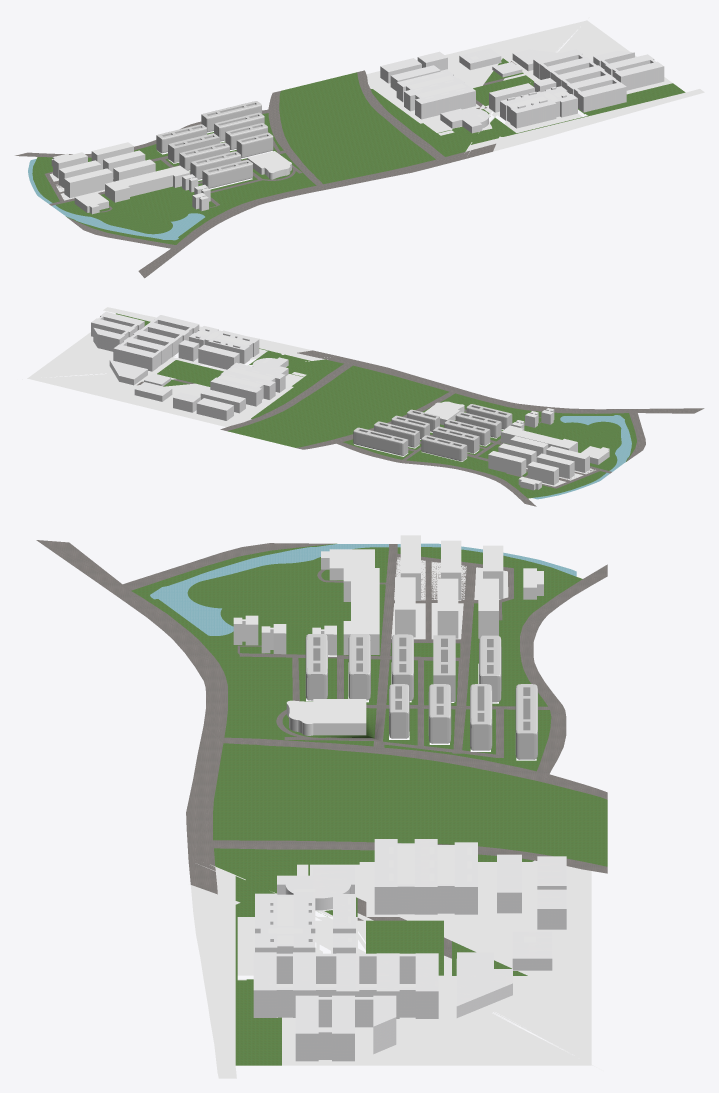
File: school.glb
3 renders of one model, top to bottom at view 1: azimuth 30°, elevation 25°; view 2: azimuth 150°, elevation 25°; view 3: azimuth 270°, elevation 25°, orthographic. The views are drawn at different scales.
Visible parts, largest first — view 1: 广工体块ver3, building.004, building.003, building.008, building, building.007, building.005, building.006, building.002, building.001; view 2: 广工体块ver3, building.003, building.007, building.008, building.002, building.005, building.004, building.006, building.001, building; view 3: 广工体块ver3, building.003, building.002, building.004, building.005, building.001, building.007, building.006, building.008, building.
Boxes of the visible parts, x1,y1,x2,y2 form: 广工体块ver3: (15,17,704,278); building.004: (202,160,252,188); building.003: (201,101,261,132); building.008: (168,133,219,163); building: (236,132,273,157); building.007: (156,124,206,153); building.005: (190,151,241,179); building.006: (179,142,229,170); building.002: (214,112,264,141); building.001: (225,123,267,149); 广工体块ver3: (22,307,704,506); building.003: (353,427,408,455); building.007: (421,435,467,461); building.008: (432,426,479,453); building.002: (374,421,419,447); building.005: (455,411,501,437); building.004: (466,404,512,429); building.006: (444,419,490,445); building.001: (391,415,429,439); building: (407,409,439,431); 广工体块ver3: (36,535,607,1078); building.003: (515,684,537,759); building.002: (470,684,492,750); building.004: (305,634,327,700); building.005: (348,634,370,700); building.001: (428,684,451,743); building.007: (479,635,501,702); building.006: (391,634,413,700); building.008: (433,635,455,701); building: (389,684,409,738).
Bounding box in the file's own units: 11.69 × 0.3082 × 5.94.
Materials: 19 (5 with a texture image).
